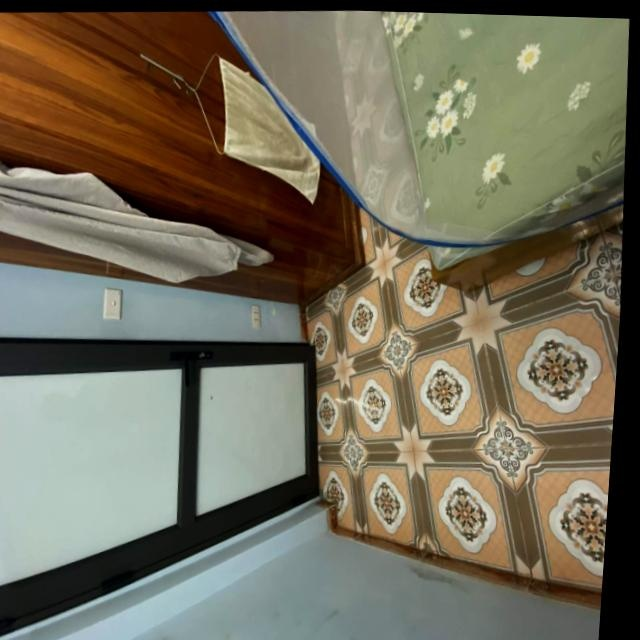outlet: (249, 304, 262, 327)
